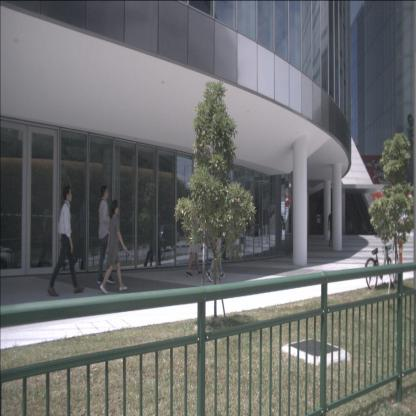human-pedestrian-adult: (47, 185, 85, 296), (100, 198, 130, 293), (98, 184, 116, 284), (207, 197, 226, 282), (186, 198, 203, 278), (328, 208, 334, 248)
vehicle-bicycle: (364, 233, 395, 290)
